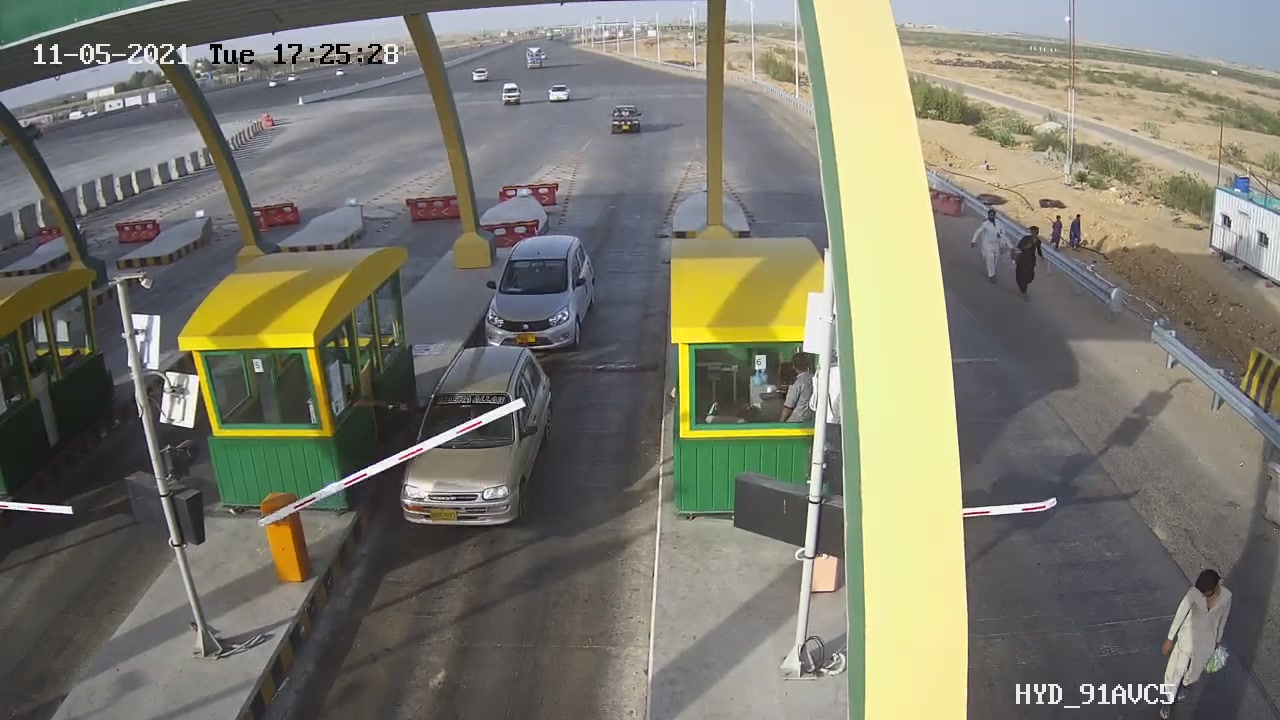F1: (387, 335, 563, 547), (465, 218, 612, 370)
